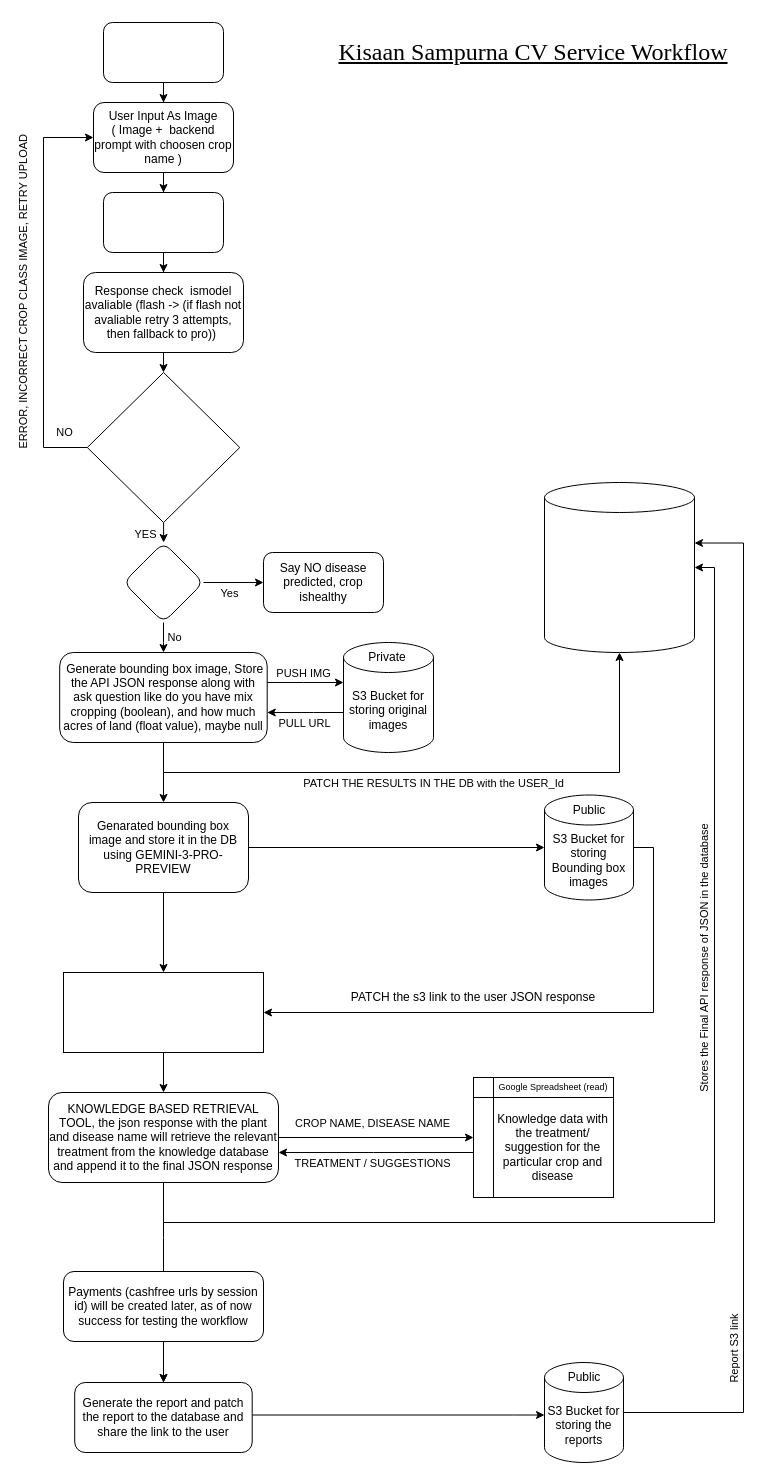
Image size: 770x1480. Some labels were removed from this diagram. The shapes that lost their labels are listed below. From the top down, each one's centre as x and y in pixels, then its label:
the point at 163,52: USER CHOOSES THE CROP
the point at 163,222: API CALL for the gemini 2.5 Models
the point at 163,447: IS_CROP IMAGE MATCHING CORRECT CROP CLASS AS GIVEN IN PROMPT
the point at 163,582: IS_healthy
the point at 619,567: Results DB PostGreSQL / SQL Alchemy
the point at 163,1012: Retrieve the S3 link and append it to API JSON data within the transaction
